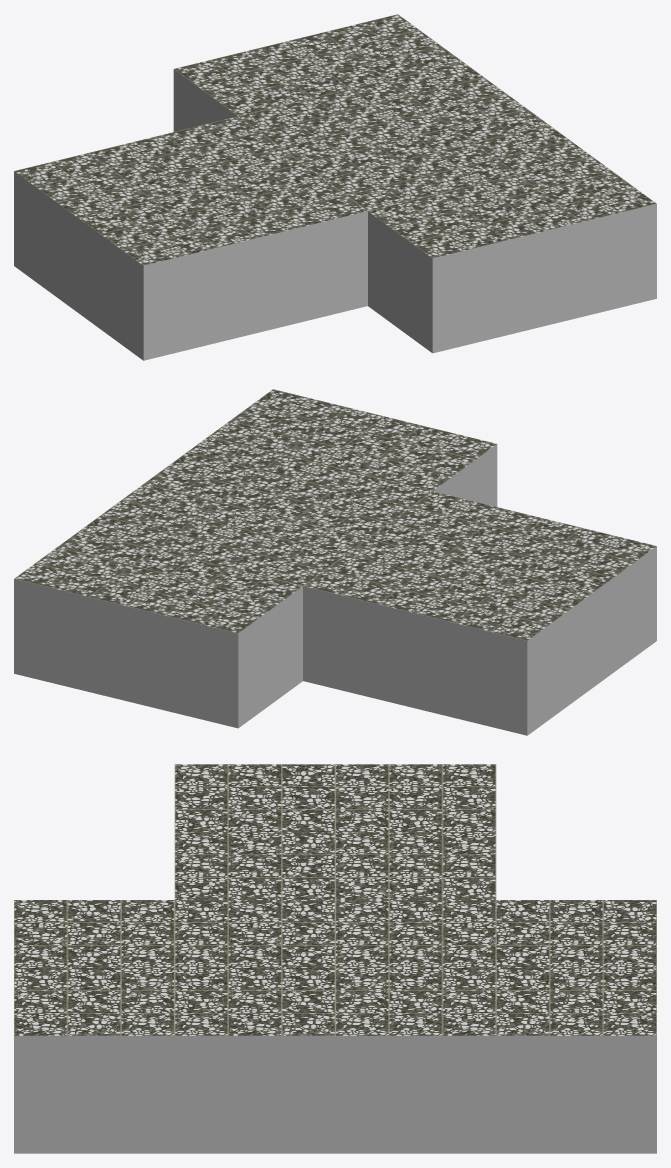
The model's file is Floor_ST.fbx.
The picture shows the model from 3 angles, top to bottom: view 1: azimuth 30°, elevation 25°; view 2: azimuth 150°, elevation 25°; view 3: azimuth 270°, elevation 25°; orthographic projection. The views are drawn at different scales.
Visible parts, largest first — view 1: Floor_ST; view 2: Floor_ST; view 3: Floor_ST.
Boxes of the visible parts, x1,y1,x2,y2 form: Floor_ST: (14,14,656,360); Floor_ST: (14,389,656,735); Floor_ST: (14,764,656,1153).
Size of the model in its own units: 24 by 4.85 by 24.
